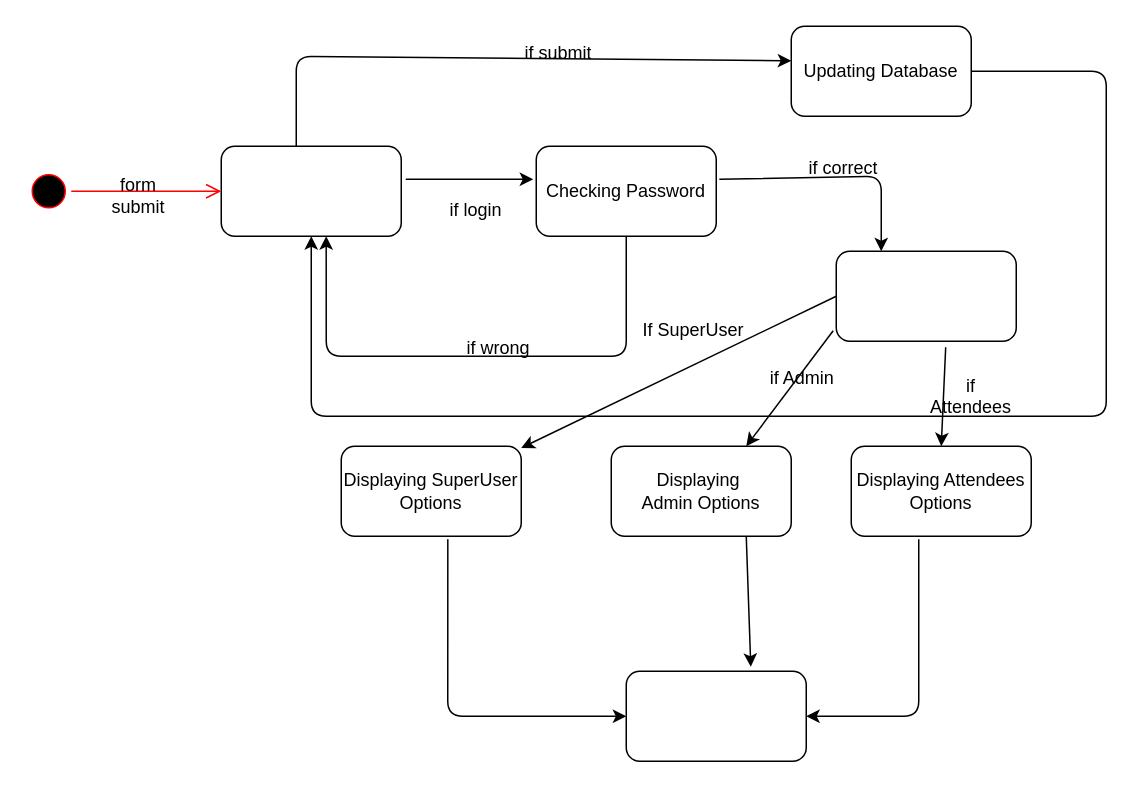
This 1145x788 diagram has some shape labels left out. The shapes that lost their labels are listed below. From the top down, each one's centre as x and y in pixels, then its label:
At point (310, 190): "Checking User form Type".
At point (925, 295): "Checking UserType".
At point (715, 715): "Processing Option".
